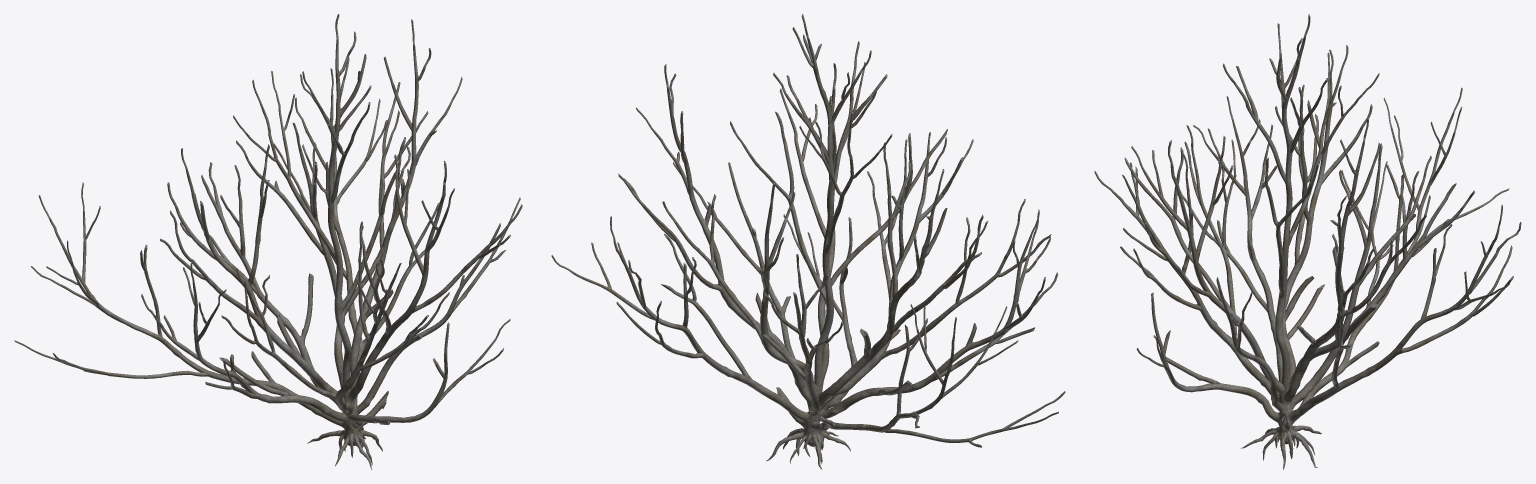
File: Salix elaeagnos HD_Dead mat 75_LOD0.fbx
The picture shows the model from 3 angles, left to right: view 1: azimuth 30°, elevation 25°; view 2: azimuth 150°, elevation 25°; view 3: azimuth 270°, elevation 25°; orthographic projection. The views are drawn at different scales.
Parts seen in each view (by area): view 1: Salix_elaeagnos_HD; view 2: Salix_elaeagnos_HD; view 3: Salix_elaeagnos_HD.
Boxes of the visible parts, x1,y1,x2,y2 form: Salix_elaeagnos_HD: [14, 14, 522, 469]; Salix_elaeagnos_HD: [551, 14, 1065, 469]; Salix_elaeagnos_HD: [1094, 14, 1521, 469].
Size of the model in its own units: 1.61 by 1.53 by 1.34.
Materials: 2 (2 with a texture image).
